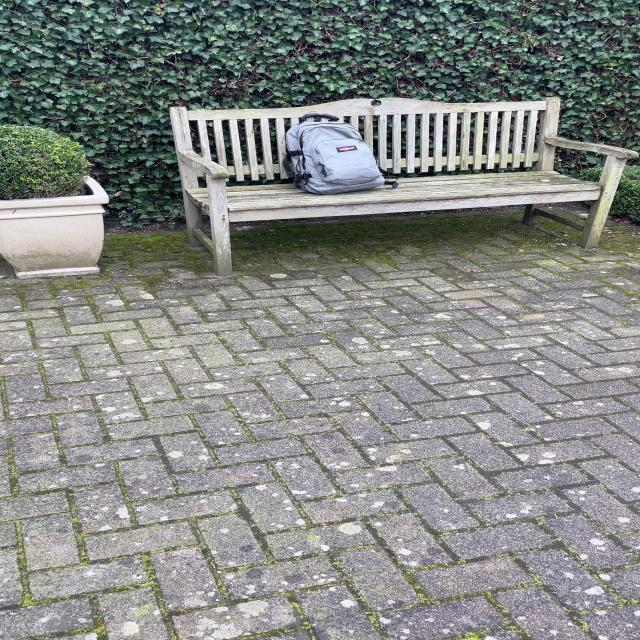backpack: (279, 112, 392, 196)
